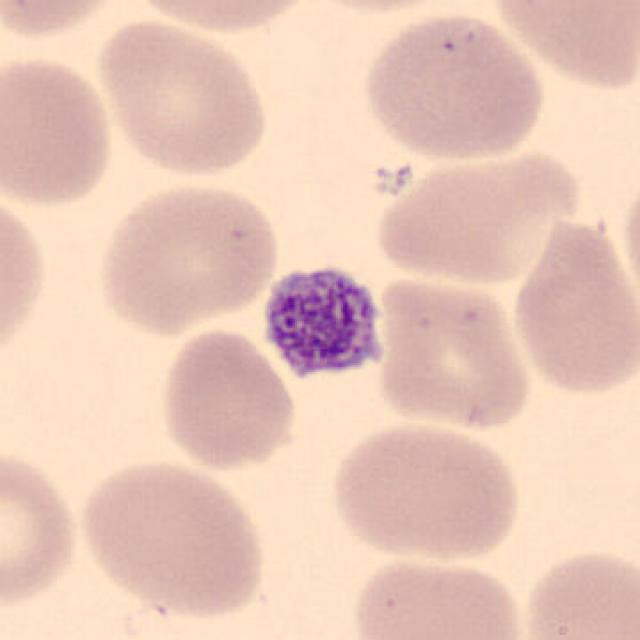Platelets: (254, 252, 395, 397)
RBC: (73, 453, 272, 622), (368, 140, 587, 288), (90, 176, 284, 338), (90, 14, 274, 182), (358, 7, 550, 166), (324, 418, 526, 566), (370, 272, 535, 436), (505, 206, 638, 402), (153, 324, 300, 474), (0, 50, 121, 212), (347, 552, 528, 640), (0, 441, 84, 617), (485, 0, 639, 93), (516, 543, 638, 640), (0, 182, 52, 376), (124, 0, 323, 37), (0, 0, 132, 44), (290, 0, 466, 16)
